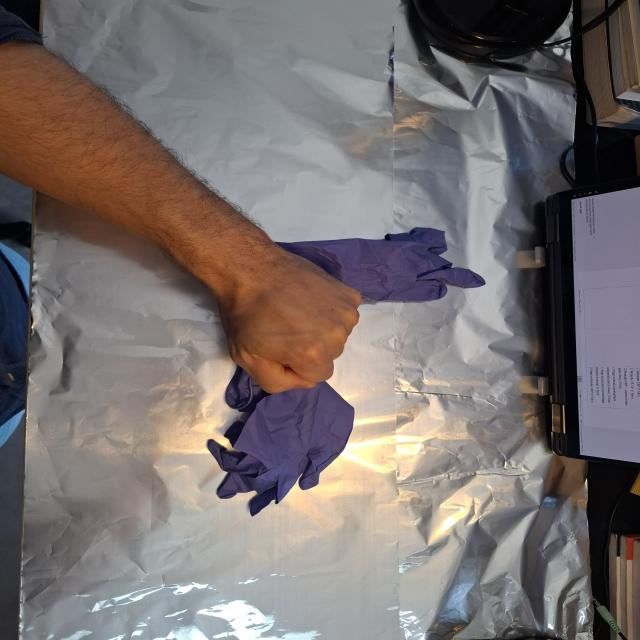glove_off: (216, 254, 364, 396)
